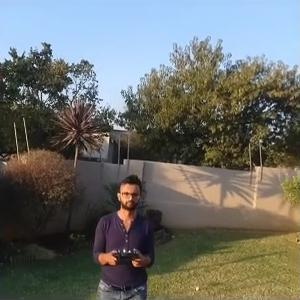follow: (90, 169, 156, 299)
